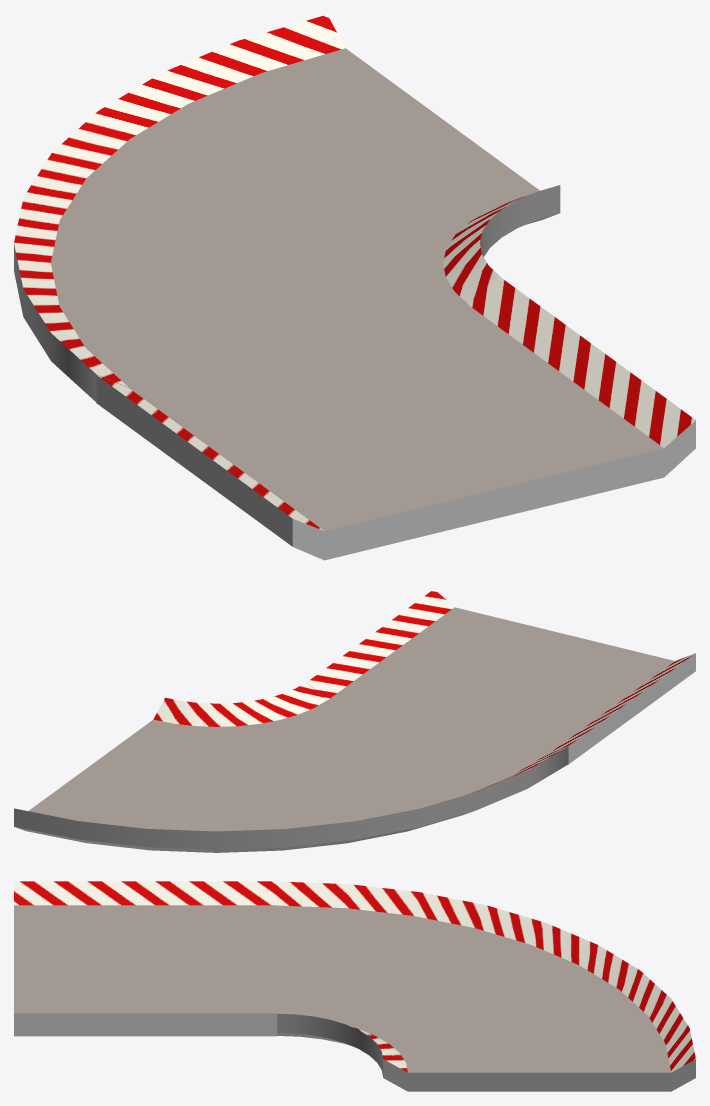
Rendered from Ballance.fbx.
3 renders of one model, top to bottom at view 1: azimuth 30°, elevation 25°; view 2: azimuth 150°, elevation 25°; view 3: azimuth 270°, elevation 25°, orthographic. The views are drawn at different scales.
Parts seen in each view (by area): view 1: Turn, Straight; view 2: Turn, Straight; view 3: Turn, Straight.
Boxes of the visible parts, x1,y1,x2,y2 form: Turn: (14,14,560,401); Straight: (96,277,695,560); Turn: (14,682,568,852); Straight: (307,589,695,764); Turn: (277,881,695,1091); Straight: (14,881,277,1036).
Bounding box in the file's own units: 3.19 × 0.2794 × 5.18.
